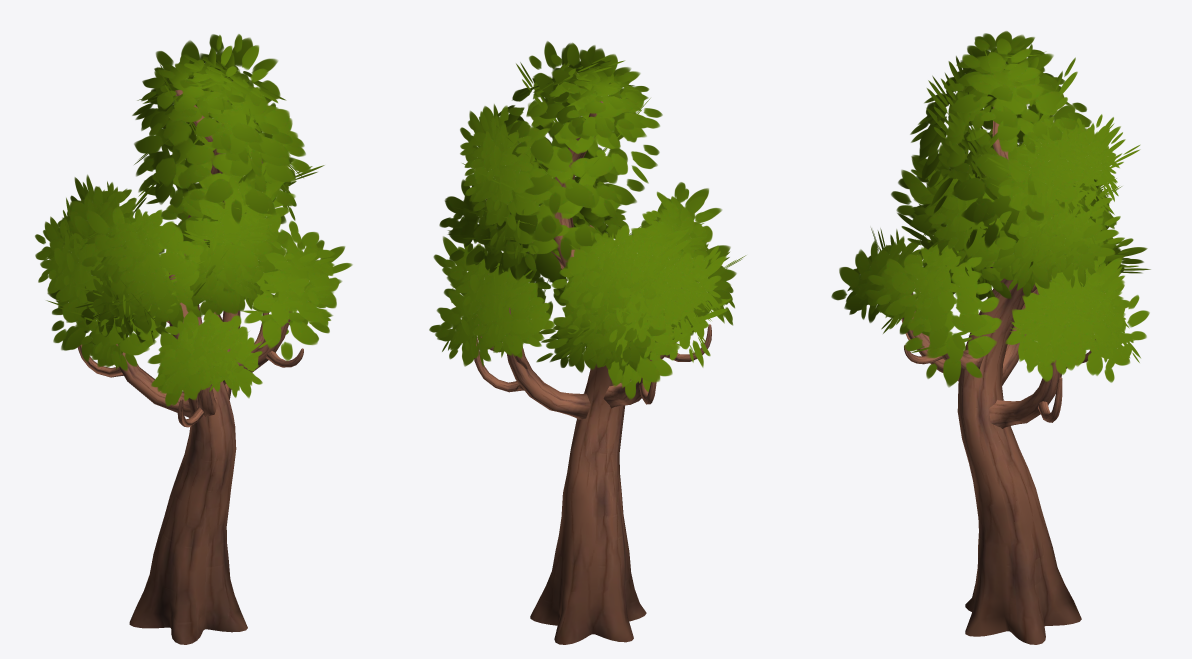
Rendered from q-tree-avoxahrpwe.glb.
3 views of the same model, side by side, from view 1: azimuth 30°, elevation 25°; view 2: azimuth 150°, elevation 25°; view 3: azimuth 270°, elevation 25° (orthographic). The views are drawn at different scales.
Visible parts, largest first — view 1: CommonTree_2; view 2: CommonTree_2; view 3: CommonTree_2.
Part boxes in pixels (left/top/right/bottom): CommonTree_2: left=35, top=34, right=352, bottom=644; CommonTree_2: left=429, top=41, right=746, bottom=644; CommonTree_2: left=831, top=31, right=1150, bottom=644.
Size of the model in its own units: 4.46 by 7.64 by 4.28.
2 materials, 2 textured.
